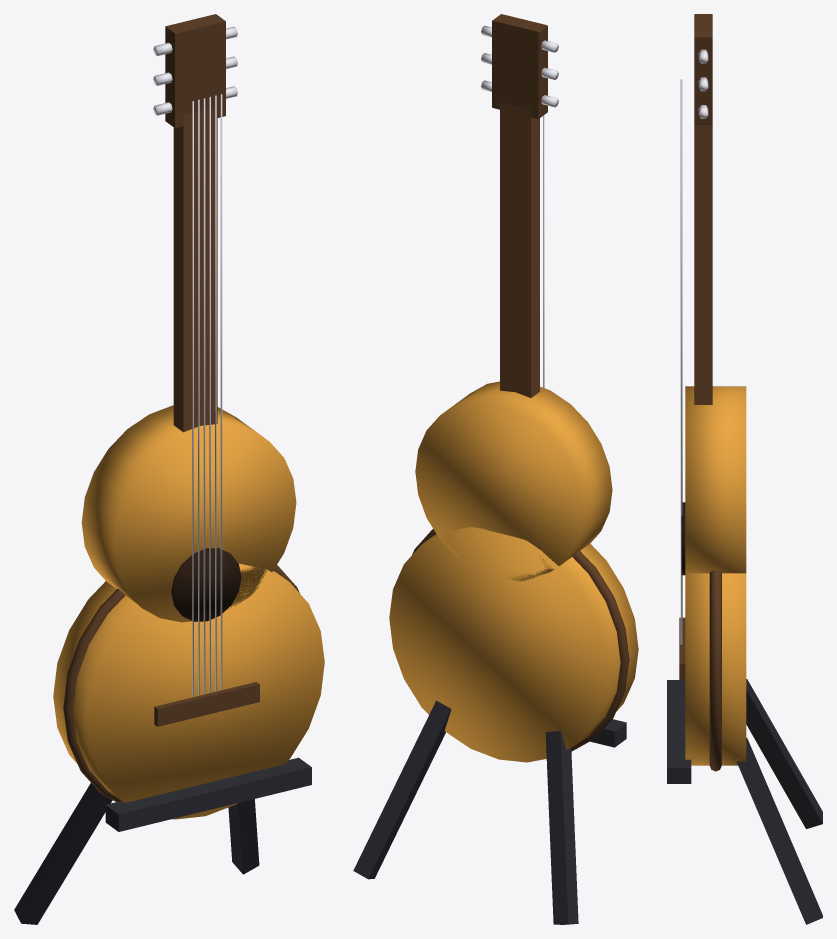
The model's file is guitar.glb.
3 views of the same model, side by side, from view 1: azimuth 30°, elevation 25°; view 2: azimuth 150°, elevation 25°; view 3: azimuth 270°, elevation 25° (orthographic). The views are drawn at different scales.
Parts seen in each view (by area): view 1: guitar; view 2: guitar; view 3: guitar.
Boxes of the visible parts, box(x1,y1,x2,y2) form: guitar: box(14, 14, 324, 924); guitar: box(353, 14, 638, 924); guitar: box(667, 14, 822, 924).
Size of the model in its own units: 0.44 by 1.54 by 0.256.
Materials: 1 (1 with a texture image).
